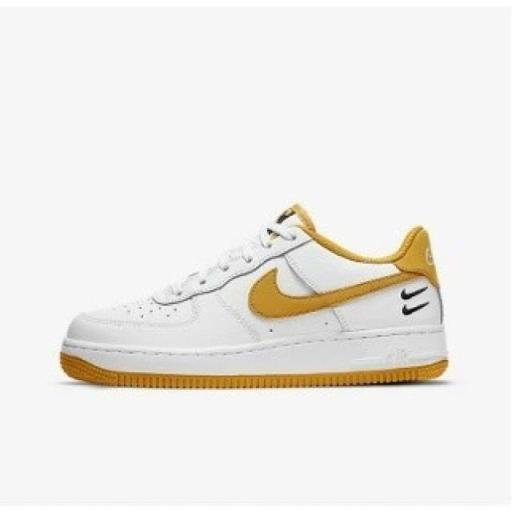Nike: (396, 299, 433, 317)
